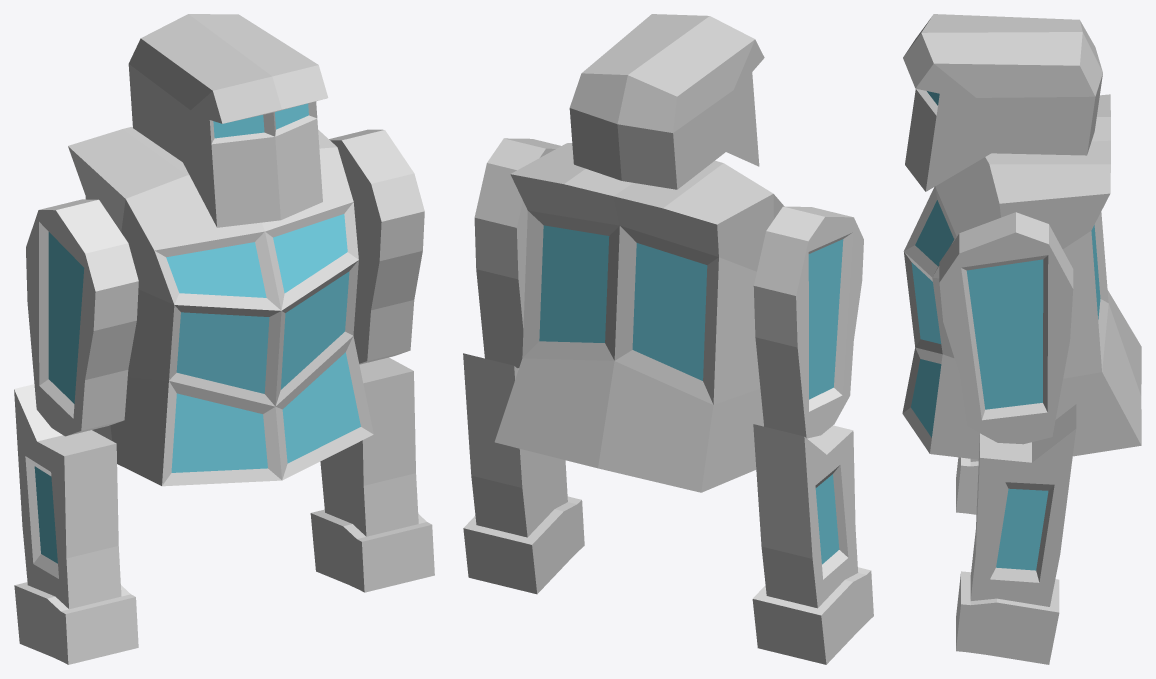
Rendered from blockerfancyupdt.fbx.
3 renders of one model, left to right at view 1: azimuth 30°, elevation 25°; view 2: azimuth 150°, elevation 25°; view 3: azimuth 270°, elevation 25°, orthographic. The views are drawn at different scales.
Parts seen in each view (by area): view 1: Cube, Cube.001, Cube.003, Cube.002, Cube.004, Cube.005; view 2: Cube, Cube.001, Cube.003, Cube.002, Cube.004, Cube.005; view 3: Cube, Cube.001, Cube.005, Cube.004, Cube.003.
Boxes of the visible parts, x1,y1,x2,y2 form: Cube: (68,126,373,486); Cube.001: (128,14,328,227); Cube.003: (14,384,138,664); Cube.002: (26,199,138,436); Cube.004: (310,357,434,592); Cube.005: (329,129,424,364); Cube: (494,143,784,492); Cube.001: (569,14,764,189); Cube.003: (752,424,873,664); Cube.002: (753,206,863,438); Cube.004: (463,353,584,594); Cube.005: (474,138,560,368); Cube: (902,94,1141,459); Cube.001: (903,14,1102,191); Cube.005: (939,212,1073,444); Cube.004: (956,404,1076,664); Cube.003: (956,457,978,514).
Bounding box in the file's own units: 346 × 516 × 204.
